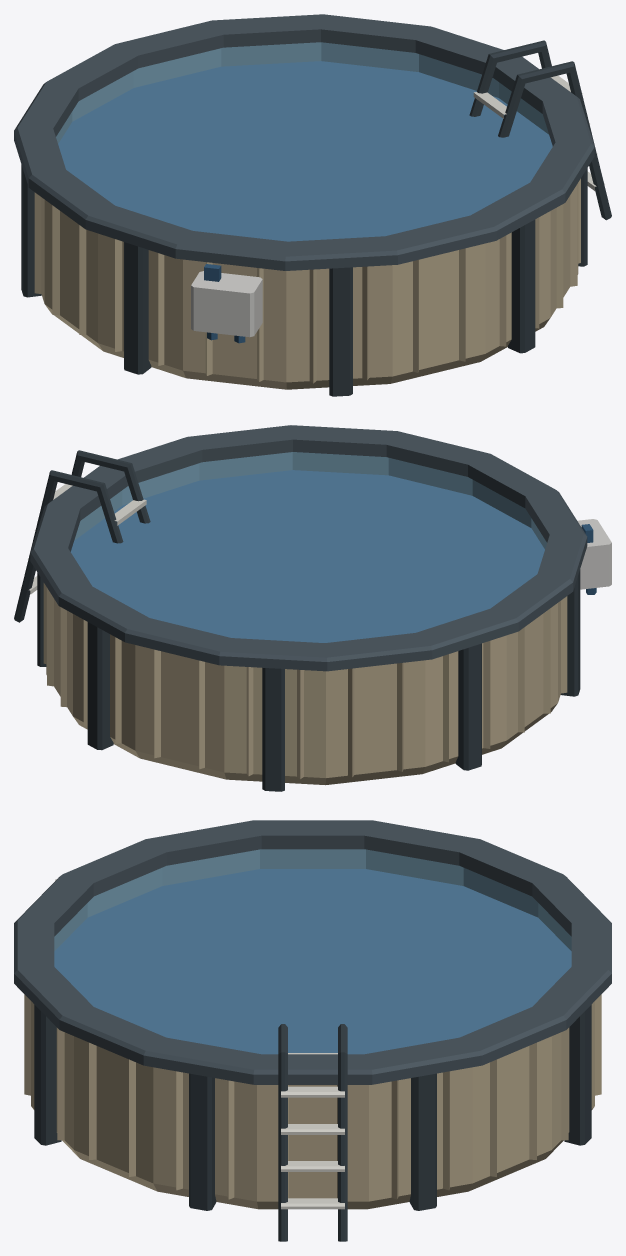
Rendered from above-ground-pool-95b23e.glb.
3 views of the same model, one above another, from view 1: azimuth 30°, elevation 25°; view 2: azimuth 150°, elevation 25°; view 3: azimuth 270°, elevation 25° (orthographic). The views are drawn at different scales.
Parts seen in each view (by area): view 1: pool-body, ladder-frame; view 2: pool-body, ladder-frame; view 3: pool-body, ladder-frame.
Part boxes in pixels (x1,y1,x2,y2): pool-body: (14,14,594,396); ladder-frame: (469,40,611,220); pool-body: (30,425,611,791); ladder-frame: (14,450,150,622); pool-body: (14,820,611,1210); ladder-frame: (278,1024,347,1241).
Size of the model in its own units: 4.39 by 1.28 by 4.02.
